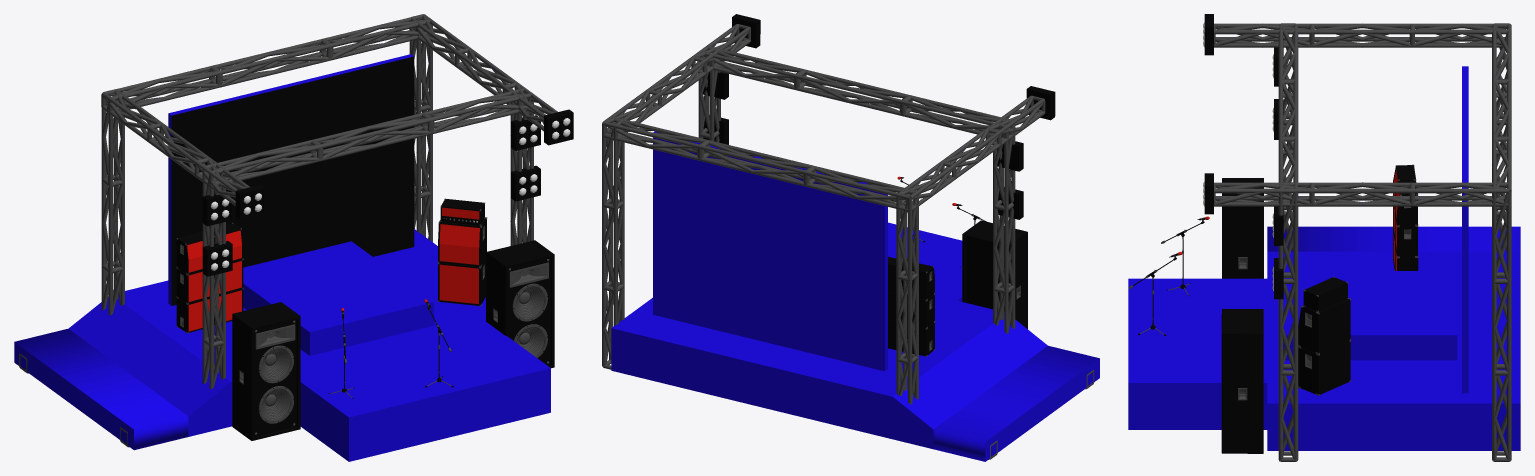
File: stage2.fbx
The picture shows the model from 3 angles, left to right: view 1: azimuth 30°, elevation 25°; view 2: azimuth 150°, elevation 25°; view 3: azimuth 270°, elevation 25°; orthographic projection. The views are drawn at different scales.
Parts seen in each view (by area): view 1: Cube_004.002, Cube_004.003; view 2: Cube_004.002, Cube_004.003; view 3: Cube_004.002, Cube_004.003.
Boxes of the visible parts, x1=… form: Cube_004.002: x1=14, y1=54, x2=573, y2=461; Cube_004.003: x1=19, y1=14, x2=557, y2=447; Cube_004.002: x1=611, y1=14, x2=1099, y2=461; Cube_004.003: x1=602, y1=24, x2=1094, y2=459; Cube_004.002: x1=1128, y1=14, x2=1520, y2=453; Cube_004.003: x1=1214, y1=23, x2=1511, y2=461.
Bounding box in the file's own units: 1015 × 623 × 795.
